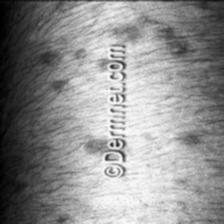Toxin: (46, 64, 70, 92), (158, 44, 188, 55)
